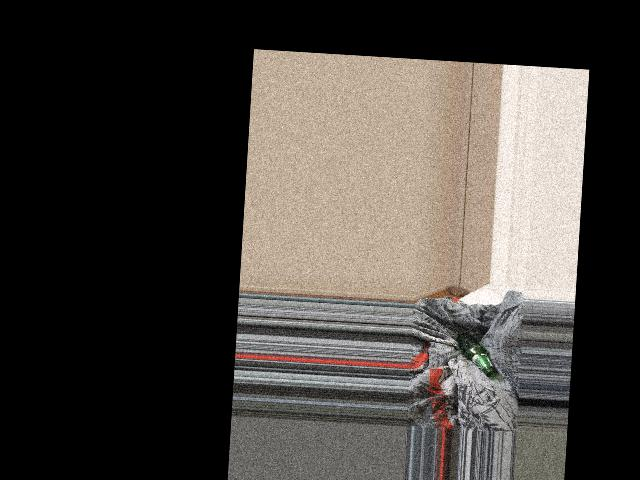beer: (455, 333, 498, 378)
